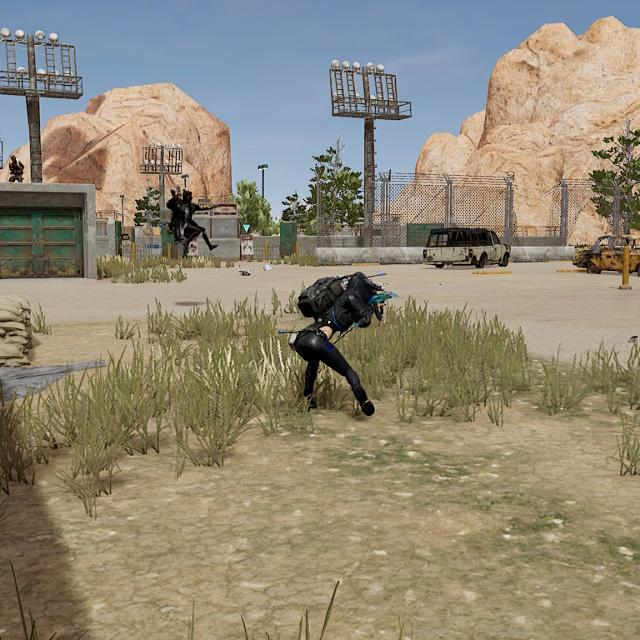head: (344, 267, 376, 306), (180, 186, 194, 205), (9, 152, 19, 164)
people: (284, 264, 392, 418), (165, 186, 219, 263), (4, 151, 27, 185)
